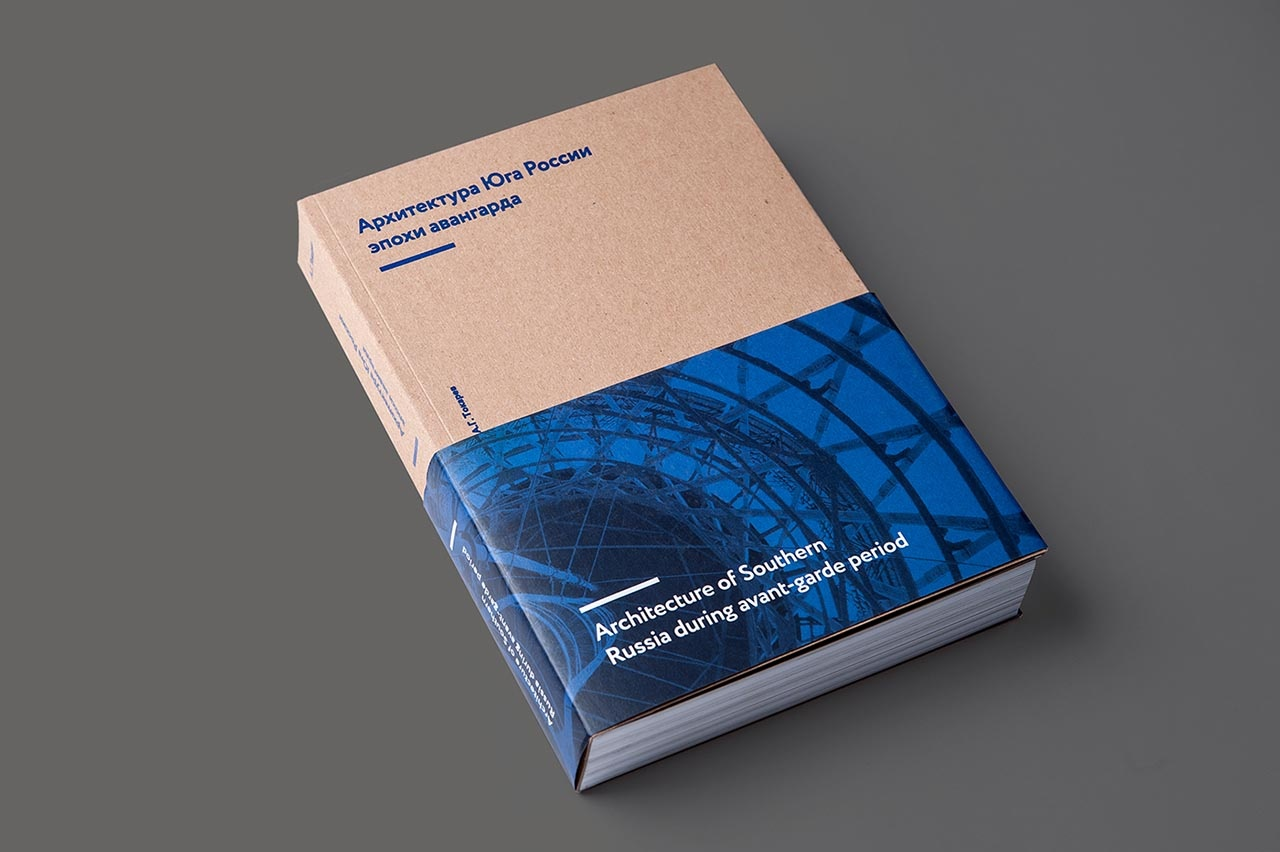book: (288, 51, 1055, 799)
